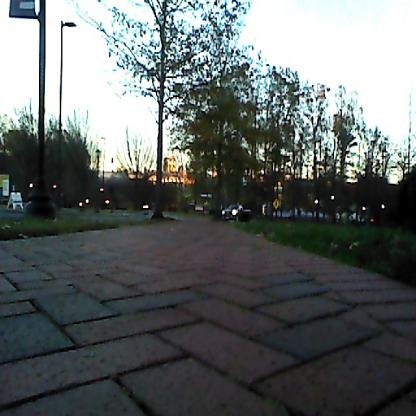Edge: (259, 221, 416, 355), (0, 208, 158, 247)
Sidewalk: (2, 225, 416, 413)
